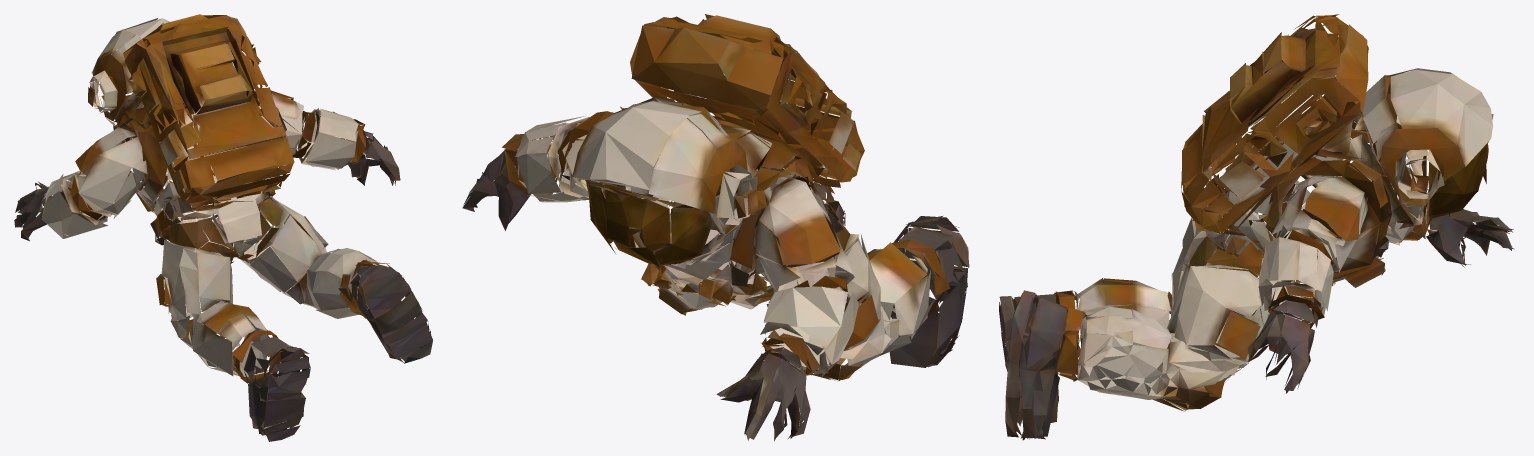
The model's file is astronaute-bas.glb.
The picture shows the model from 3 angles, left to right: view 1: azimuth 30°, elevation 25°; view 2: azimuth 150°, elevation 25°; view 3: azimuth 270°, elevation 25°; orthographic projection. The views are drawn at different scales.
Visible parts, largest first — view 1: astronaute-bas; view 2: astronaute-bas; view 3: astronaute-bas.
Part boxes in pixels (left/top/right/bottom): astronaute-bas: left=14, top=14, right=432, bottom=441; astronaute-bas: left=462, top=14, right=969, bottom=441; astronaute-bas: left=999, top=14, right=1514, bottom=440.
Bounding box in the file's own units: 1.57 × 1.55 × 1.8.
1 material, 1 textured.
